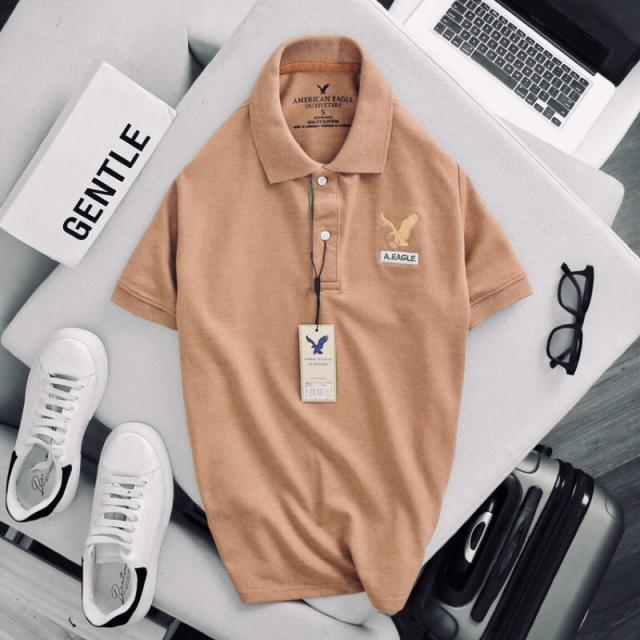Shirt: (116, 35, 530, 601)
